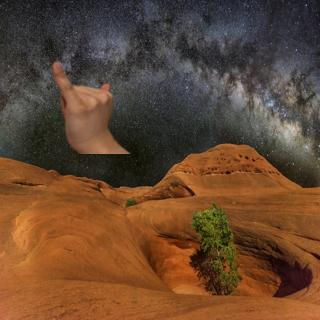HAVE: (45, 55, 122, 151)
